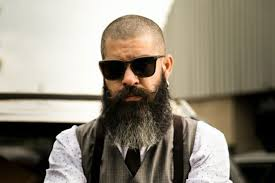b.y: (110, 89, 160, 144)
